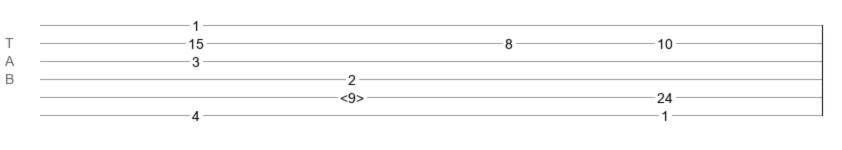1: (192, 18, 200, 28), (661, 108, 669, 118)
10: (657, 36, 673, 46)
15: (188, 36, 204, 46)
2: (348, 72, 356, 82)
24: (657, 90, 673, 100)
3: (192, 54, 200, 64)
4: (192, 108, 200, 118)
8: (505, 36, 513, 46)
harmonic: (340, 90, 364, 100)
